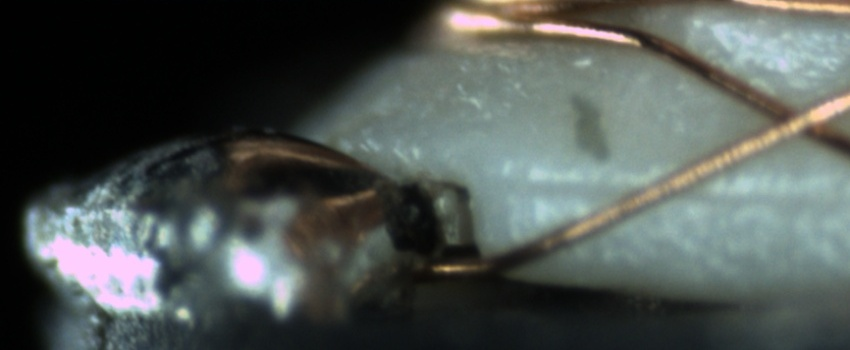CL: (740, 80, 842, 151)
DL: (523, 158, 850, 222)
